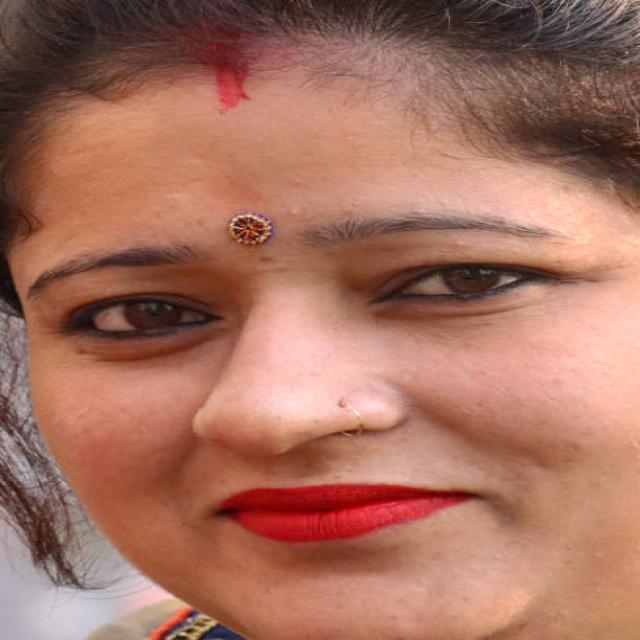no_dark_circle: (390, 298, 569, 332), (52, 336, 224, 366)
